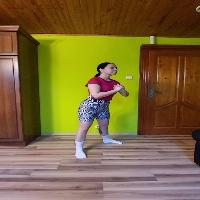squats: (63, 56, 134, 153)
